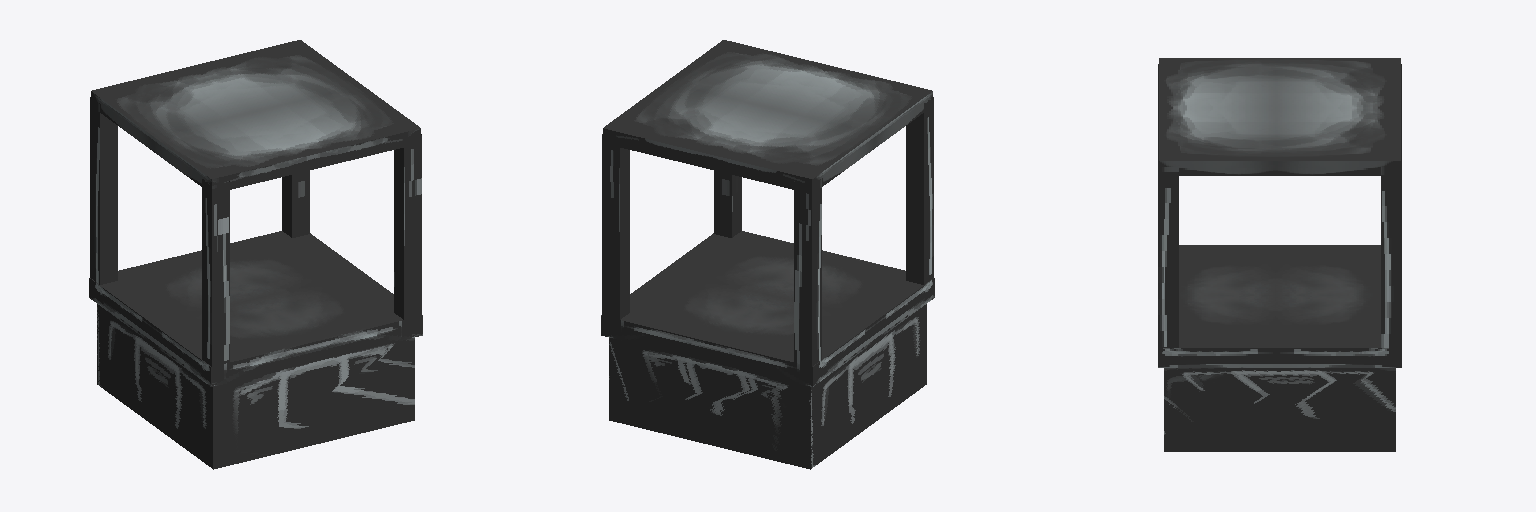
3 renders of one model, left to right at view 1: azimuth 30°, elevation 25°; view 2: azimuth 150°, elevation 25°; view 3: azimuth 270°, elevation 25°, orthographic.
Visible parts, largest first — view 1: Cube.002_Material.002; view 2: Cube.002_Material.002; view 3: Cube.002_Material.002.
Boxes of the visible parts, box(x1,y1,x2,y2) form: Cube.002_Material.002: box(89, 40, 422, 469); Cube.002_Material.002: box(601, 40, 934, 469); Cube.002_Material.002: box(1158, 58, 1401, 451).
Bounding box in the file's own units: 3.69 × 4.89 × 3.69.
Materials: 1 (1 with a texture image).